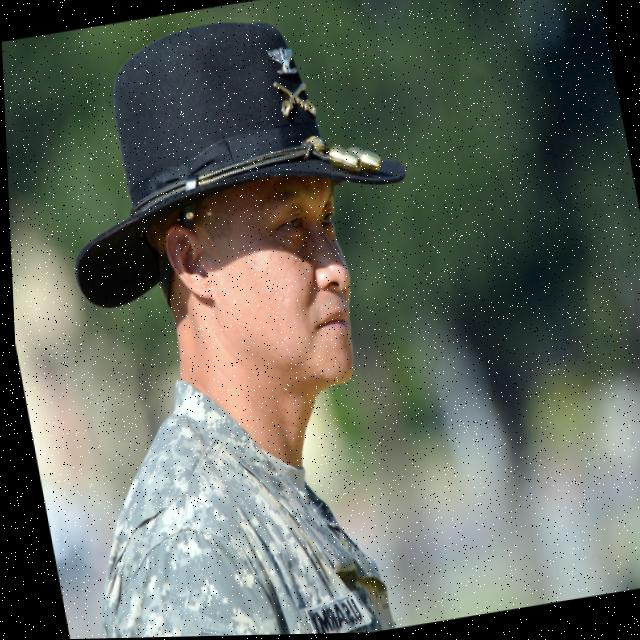illegal_helmet: (25, 0, 446, 430)
